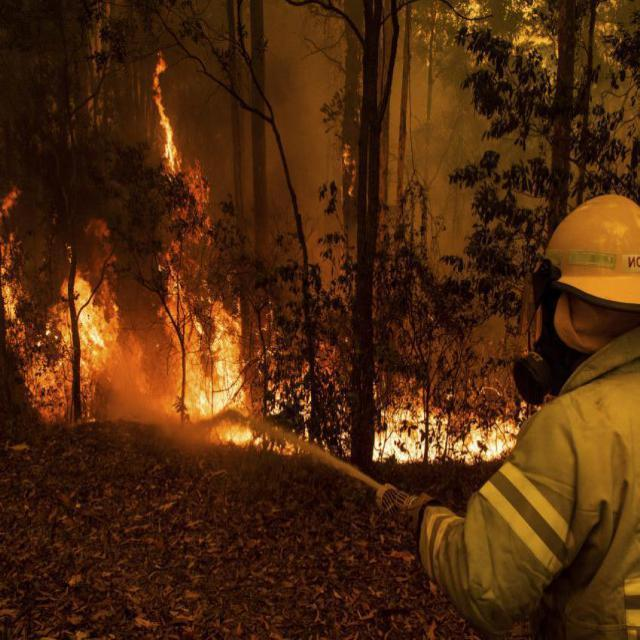Fire: (150, 53, 296, 454), (2, 192, 115, 428), (372, 381, 530, 466)
